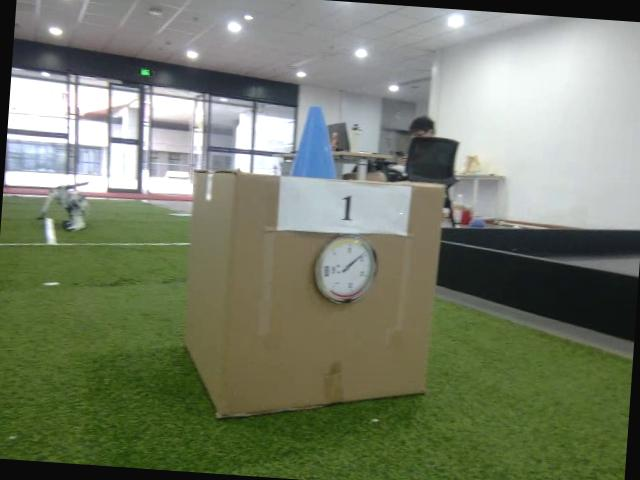1: (339, 194, 354, 221)
Dashboard: (312, 232, 379, 306)
blue_barrel: (288, 104, 341, 180)
ssi: (324, 266, 331, 276)
